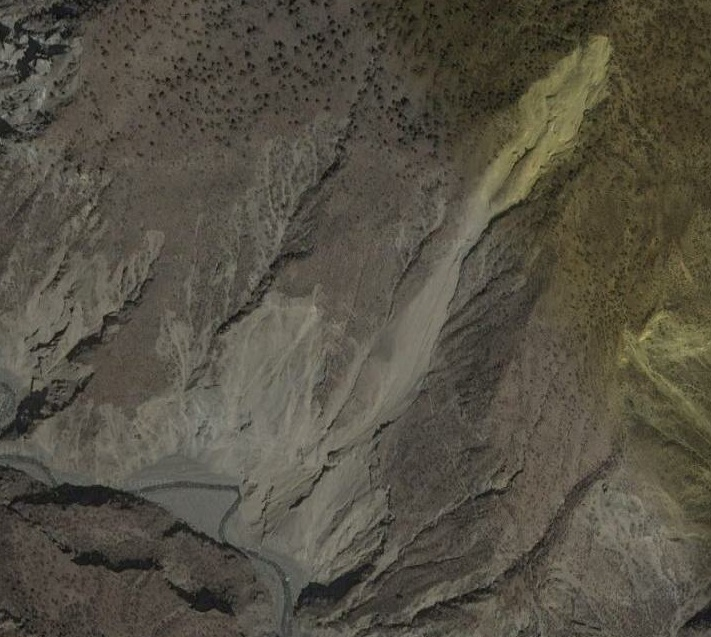slope: (35, 239, 471, 608), (476, 26, 624, 213), (620, 301, 710, 406)
